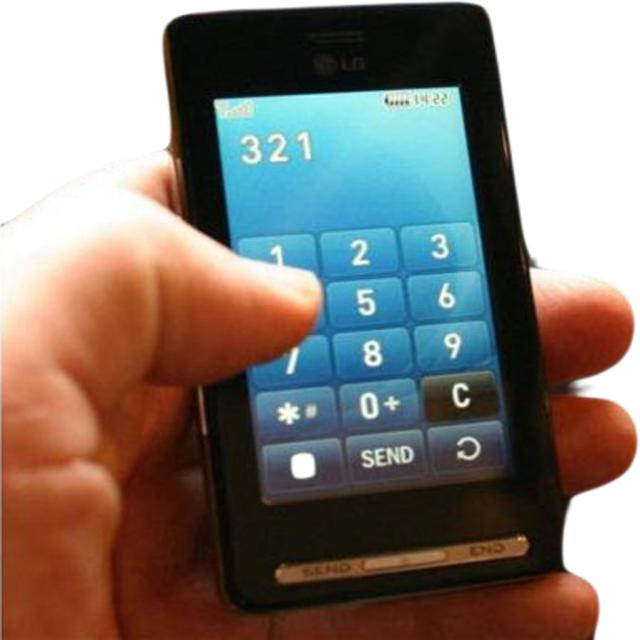Mobile phone: (161, 0, 569, 622)
